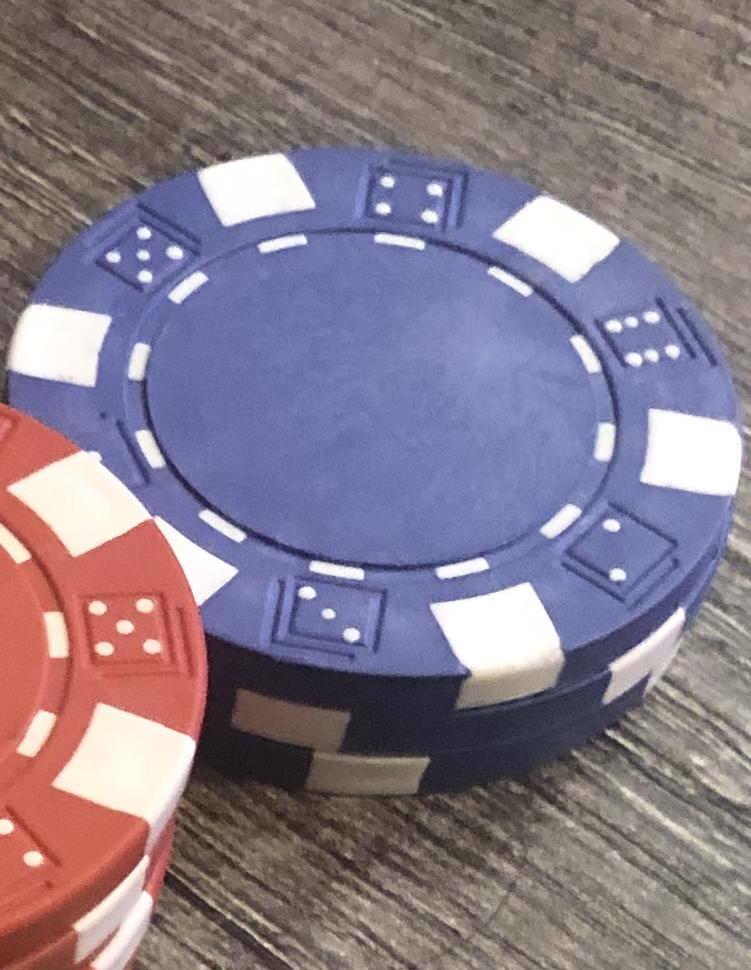Chip: (1, 1, 751, 970)
